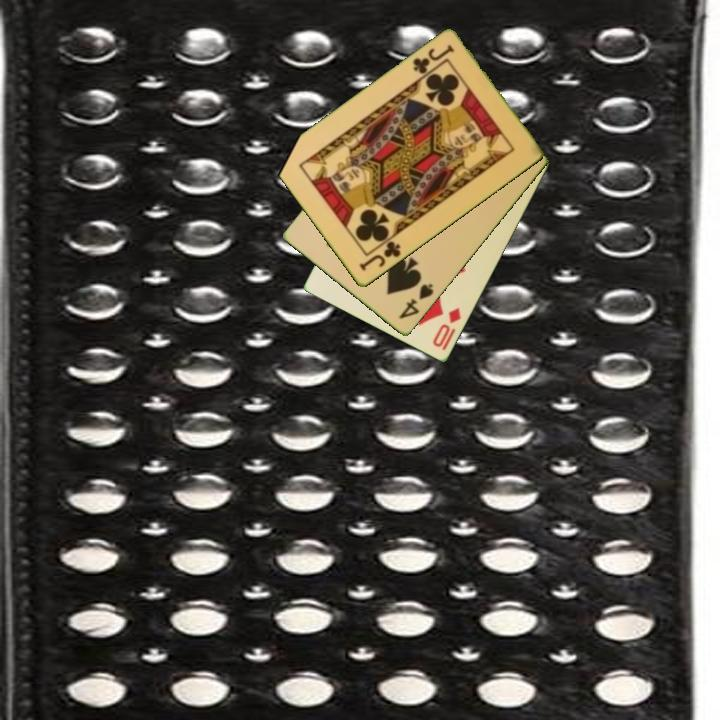10d: (429, 304, 464, 354)
4s: (395, 280, 437, 323)
Jc: (409, 41, 457, 78), (356, 238, 404, 274)
